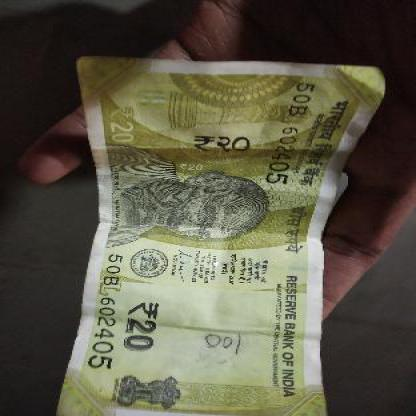New20Front: (79, 58, 319, 406)
